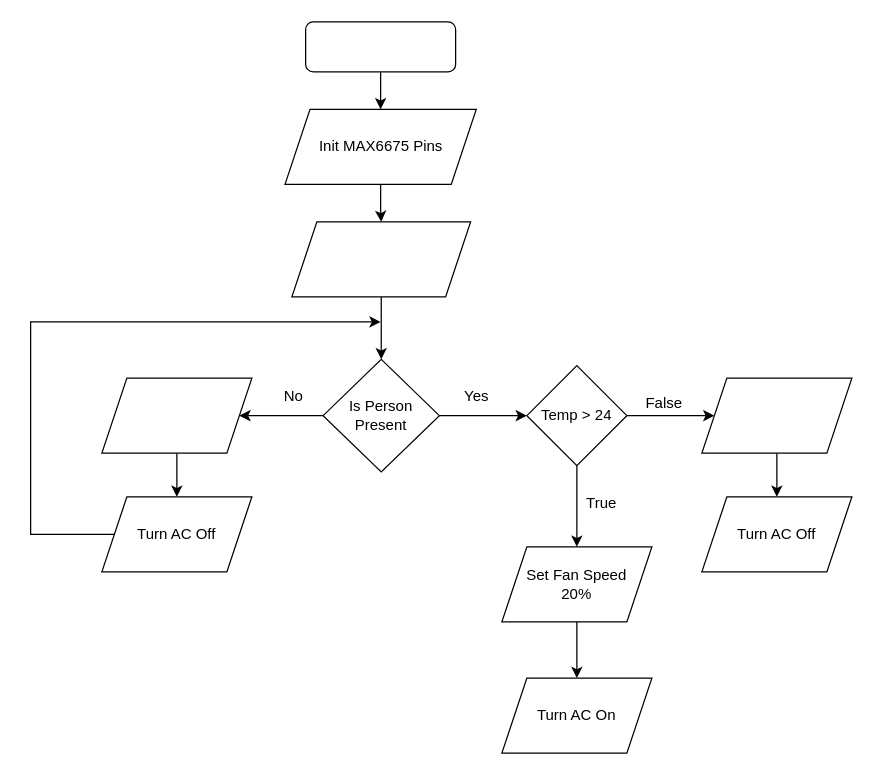
This 874x775 diagram has some shape labels left out. The centre of each missing label's shape, as x and y in pixels:
"Init Serial Monitor at 9600" belongs at (381,259).
"Set Fan Speed 0" belongs at (176,415).
"Set Fan Speed 80%" belongs at (776,415).
"Start" belongs at (380,46).
